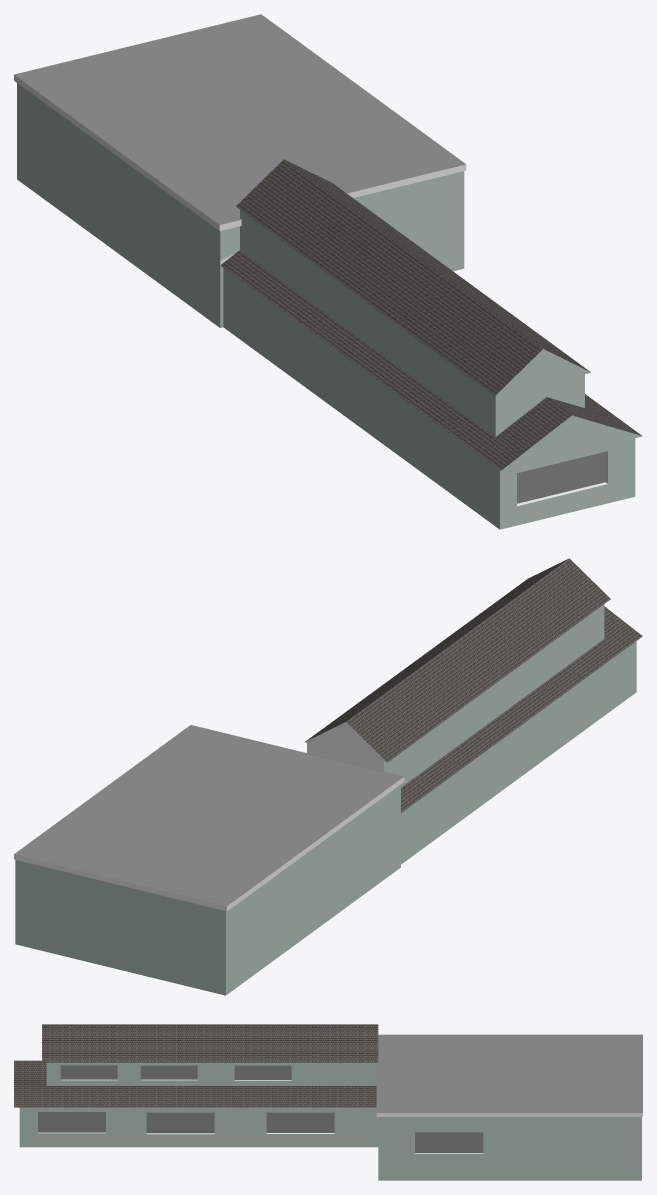
The model's file is DarienBoatHouse.fbx.
3 views of the same model, one above another, from view 1: azimuth 30°, elevation 25°; view 2: azimuth 150°, elevation 25°; view 3: azimuth 270°, elevation 25° (orthographic). The views are drawn at different scales.
Visible parts, largest first — view 1: Model; view 2: Model; view 3: Model.
Boxes of the visible parts, <box> form: Model: <box>14,14,642,529</box>; Model: <box>14,558,642,995</box>; Model: <box>14,1024,642,1180</box>.
Size of the model in its own units: 15.45 by 9.16 by 52.45.
